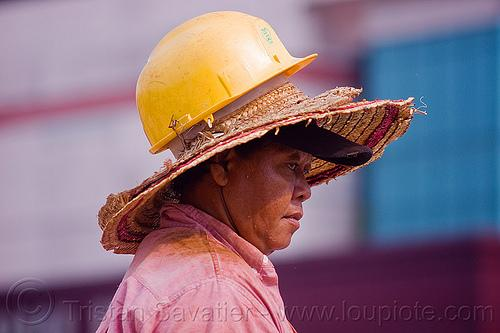helmet: (138, 12, 318, 154)
